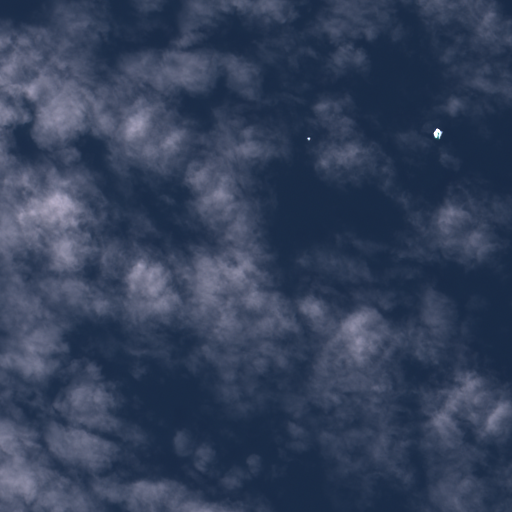Iceberg: (433, 128, 442, 138), (307, 137, 310, 140)
